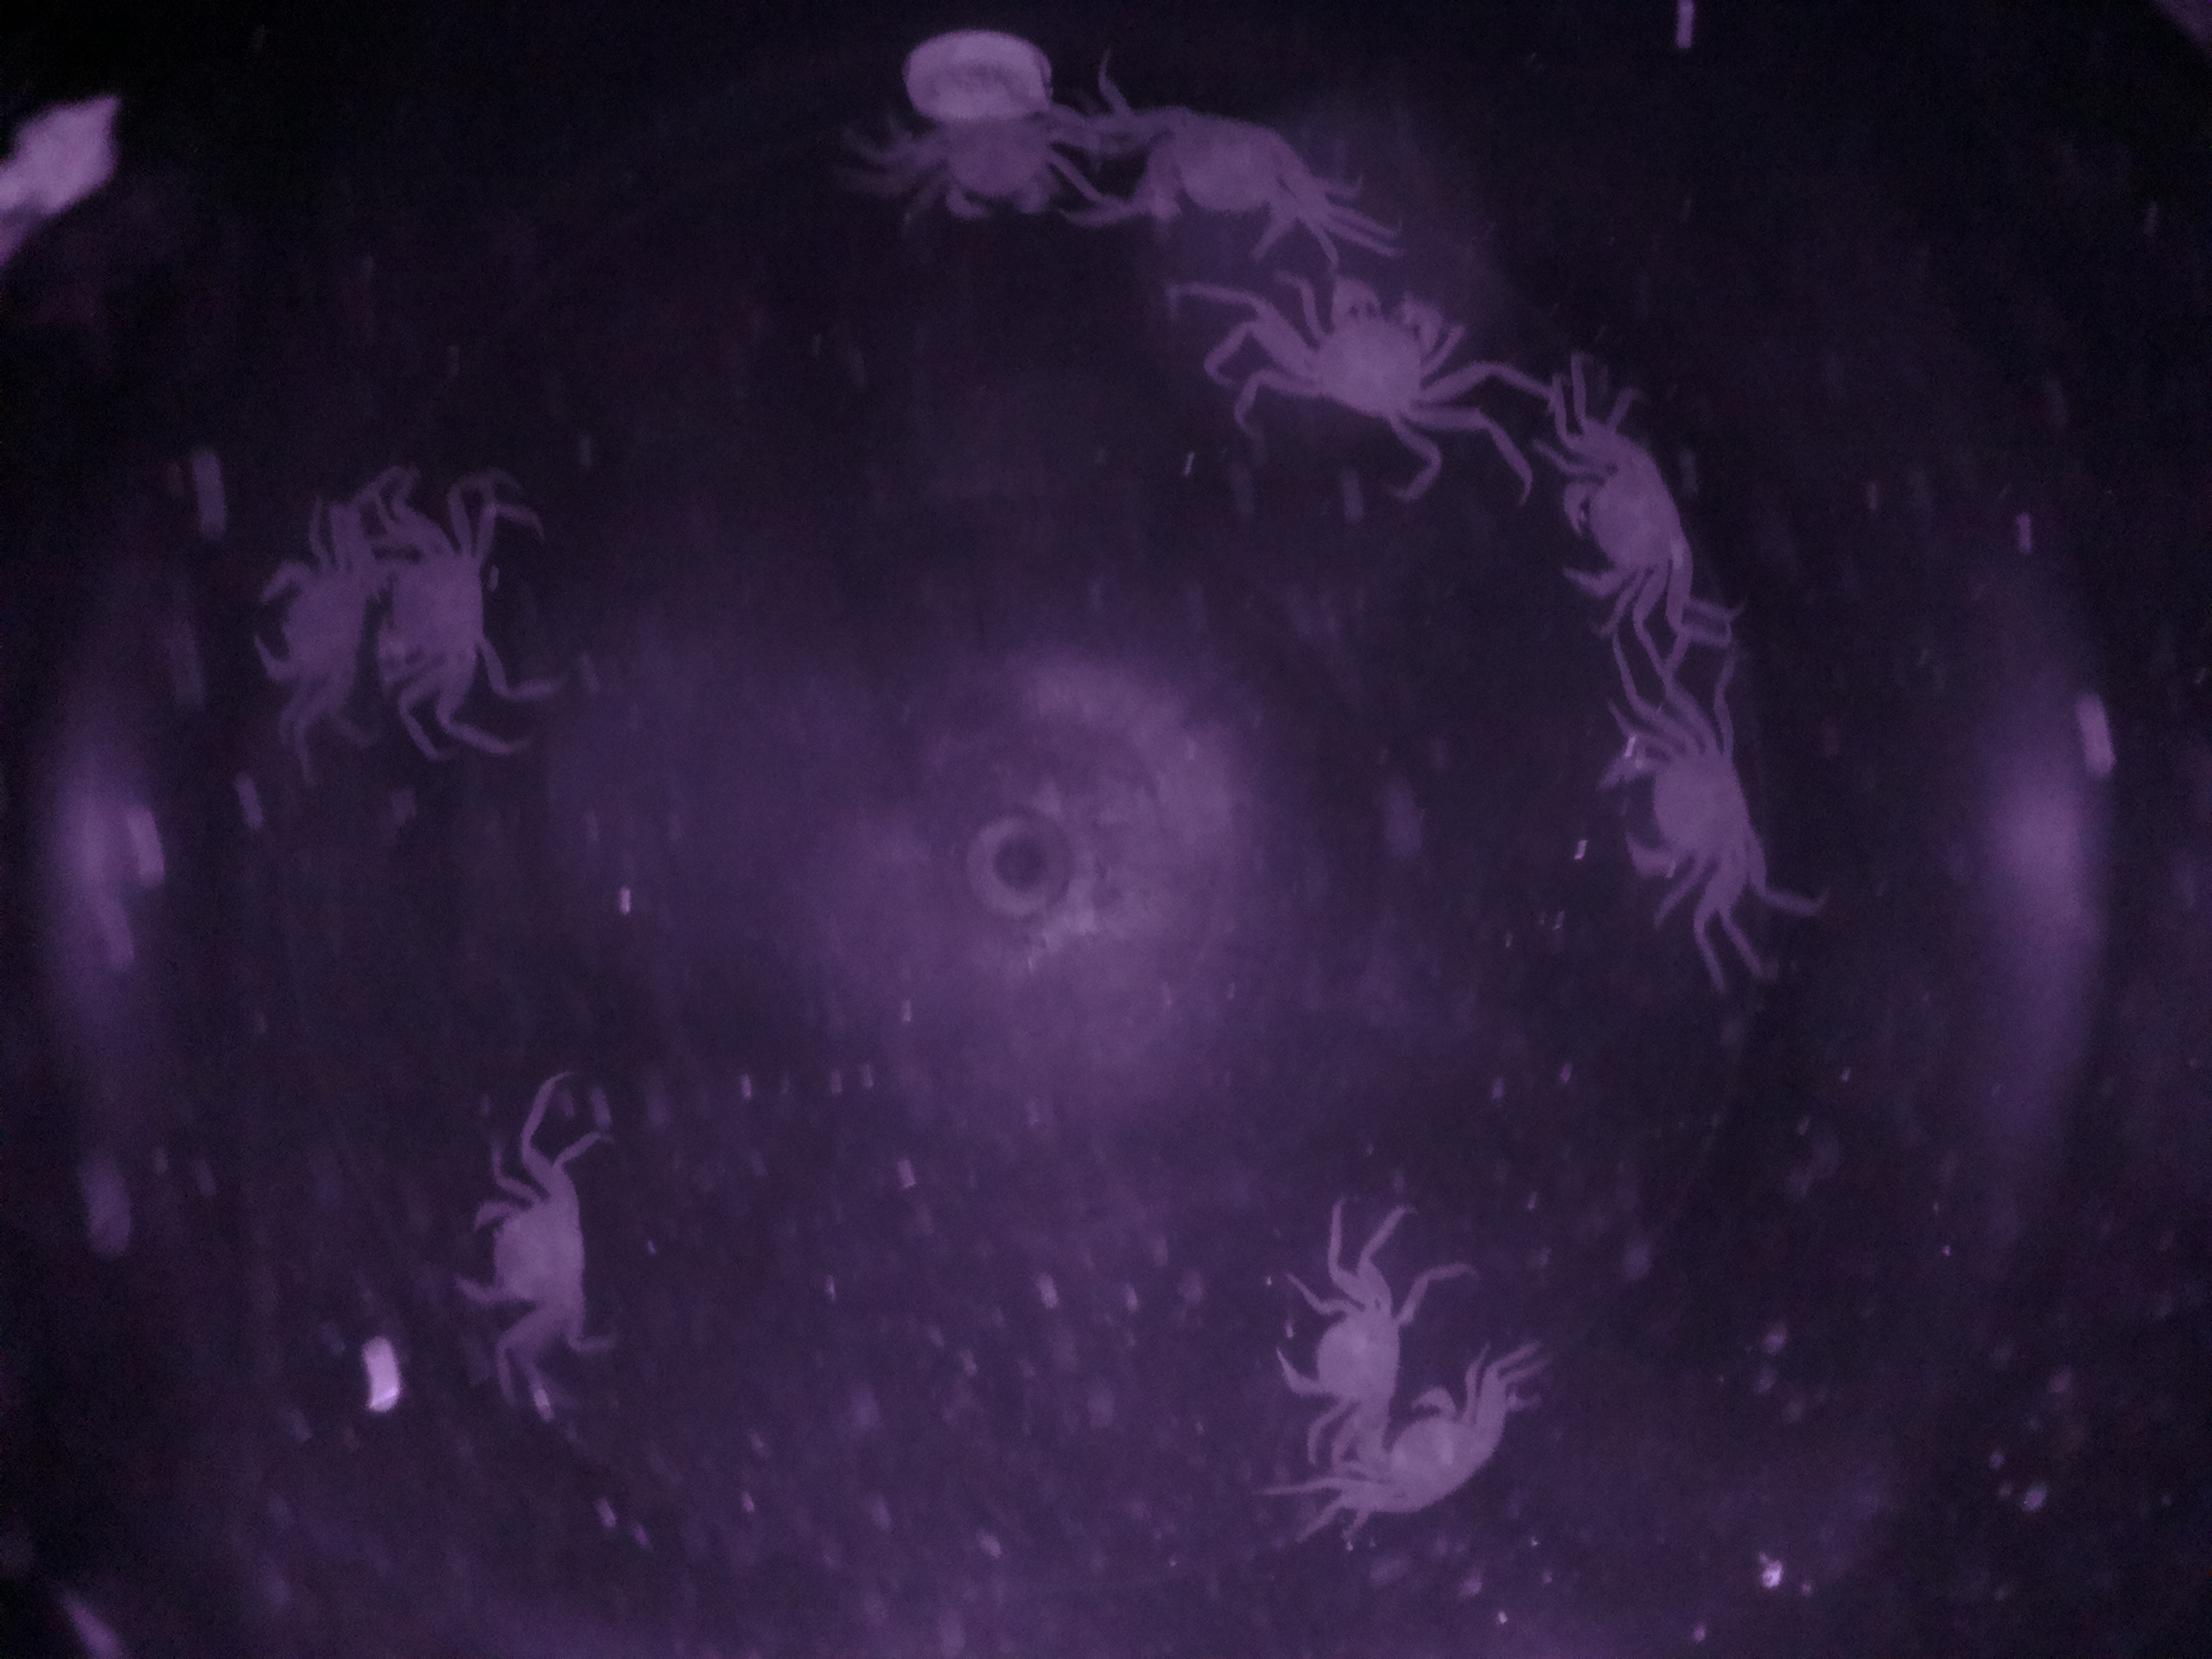Crab: (1602, 692, 1784, 934), (1268, 260, 1500, 441), (444, 1152, 634, 1359), (1547, 420, 1693, 659), (361, 509, 536, 702), (1261, 1265, 1432, 1438)
